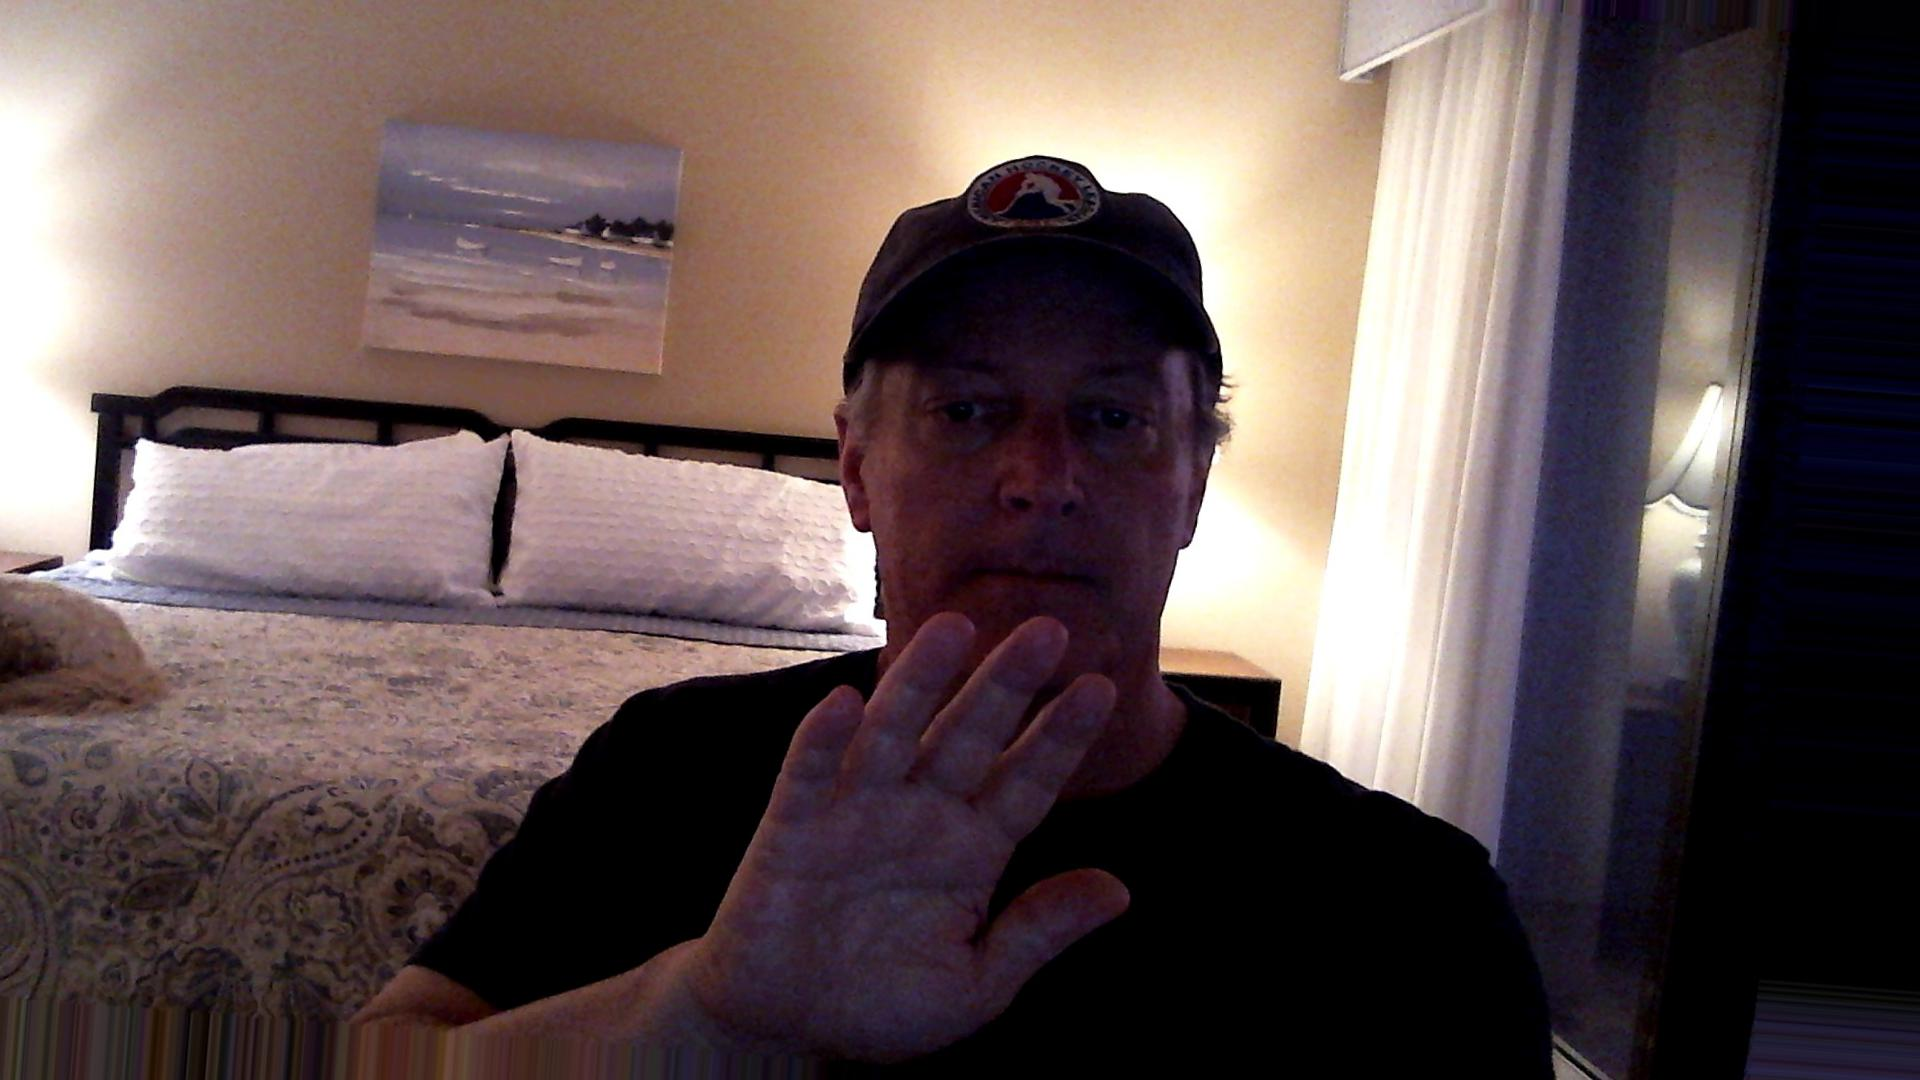Hello: (688, 596, 1160, 1064)
